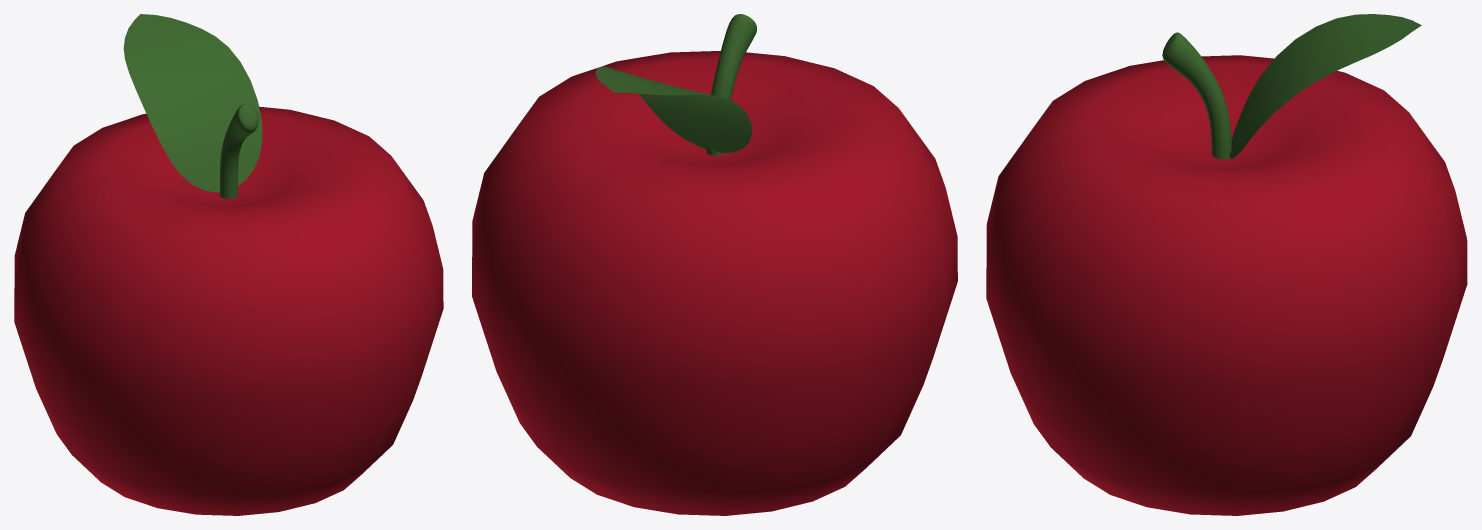
File: Maça.glb
3 renders of one model, left to right at view 1: azimuth 30°, elevation 25°; view 2: azimuth 150°, elevation 25°; view 3: azimuth 270°, elevation 25°, orthographic. The views are drawn at different scales.
Visible parts, largest first — view 1: Sphere, Plane, Cylinder; view 2: Sphere, Plane, Cylinder; view 3: Sphere, Plane, Cylinder.
Boxes of the visible parts, x1,y1,x2,y2 form: Sphere: [14, 106, 443, 515]; Plane: [123, 14, 262, 192]; Cylinder: [220, 103, 258, 198]; Sphere: [472, 51, 957, 515]; Plane: [595, 66, 751, 152]; Cylinder: [706, 14, 756, 155]; Sphere: [986, 55, 1467, 515]; Plane: [1229, 14, 1421, 158]; Cylinder: [1162, 32, 1231, 159].
Size of the model in its own units: 1.94 by 1.94 by 1.93.
